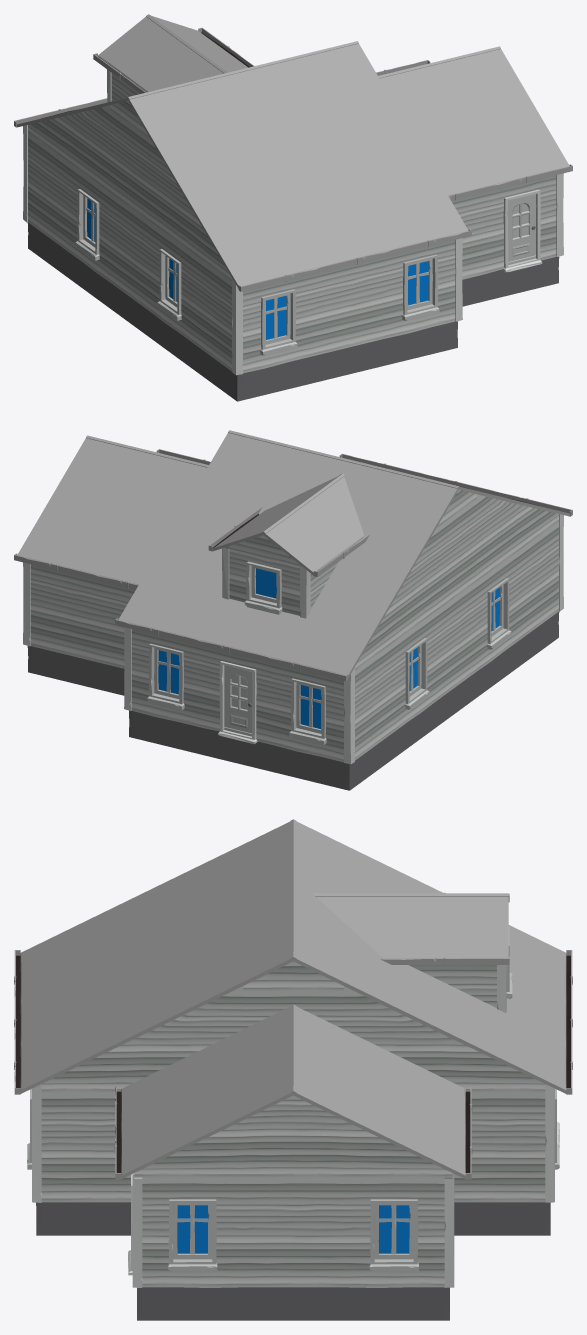
Rendered from SM_Bld_House_Preset_07.fbx.
The picture shows the model from 3 angles, top to bottom: view 1: azimuth 30°, elevation 25°; view 2: azimuth 150°, elevation 25°; view 3: azimuth 270°, elevation 25°; orthographic projection. The views are drawn at different scales.
Parts seen in each view (by area): view 1: SM_Bld_House_Preset_07; view 2: SM_Bld_House_Preset_07; view 3: SM_Bld_House_Preset_07.
Boxes of the visible parts, box(x1,y1,x2,y2) form: SM_Bld_House_Preset_07: box(14, 14, 572, 401); SM_Bld_House_Preset_07: box(14, 430, 572, 790); SM_Bld_House_Preset_07: box(14, 819, 572, 1320).
Size of the model in its own units: 1320 by 770 by 1387.
